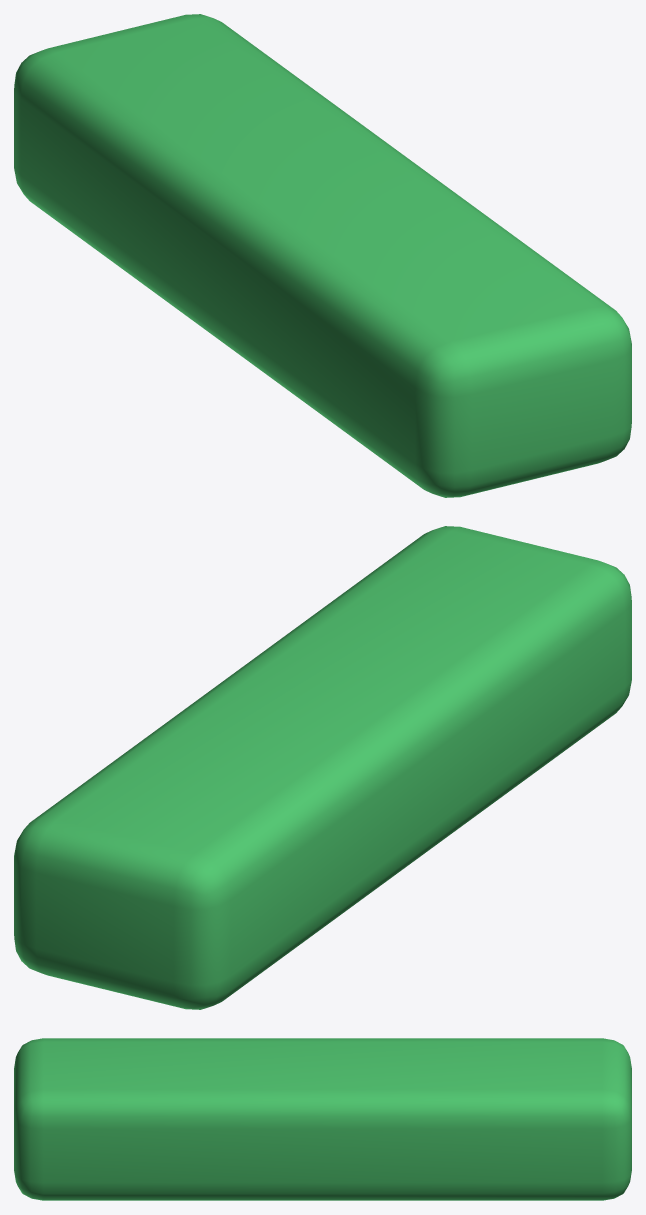
Rendered from ground_type_05.FBX.
3 renders of one model, top to bottom at view 1: azimuth 30°, elevation 25°; view 2: azimuth 150°, elevation 25°; view 3: azimuth 270°, elevation 25°, orthographic. The views are drawn at different scales.
Visible parts, largest first — view 1: ground_type_05; view 2: ground_type_05; view 3: ground_type_05.
Part boxes in pixels (bbox=[...]): ground_type_05: bbox=[14, 14, 631, 497]; ground_type_05: bbox=[14, 526, 631, 1009]; ground_type_05: bbox=[14, 1038, 631, 1200].
Size of the model in its own units: 580 by 2087 by 400.
Materials: 1 (1 with a texture image).
